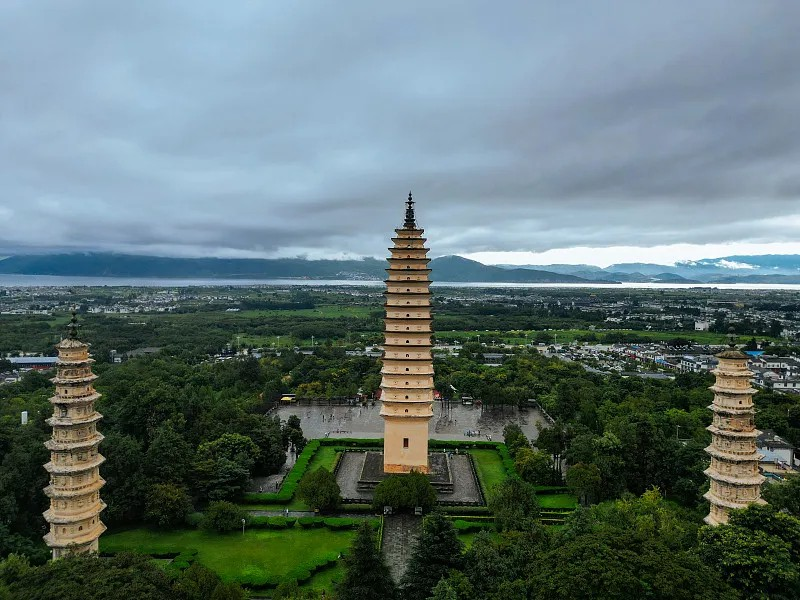ThreePagoda: (380, 192, 436, 474)
